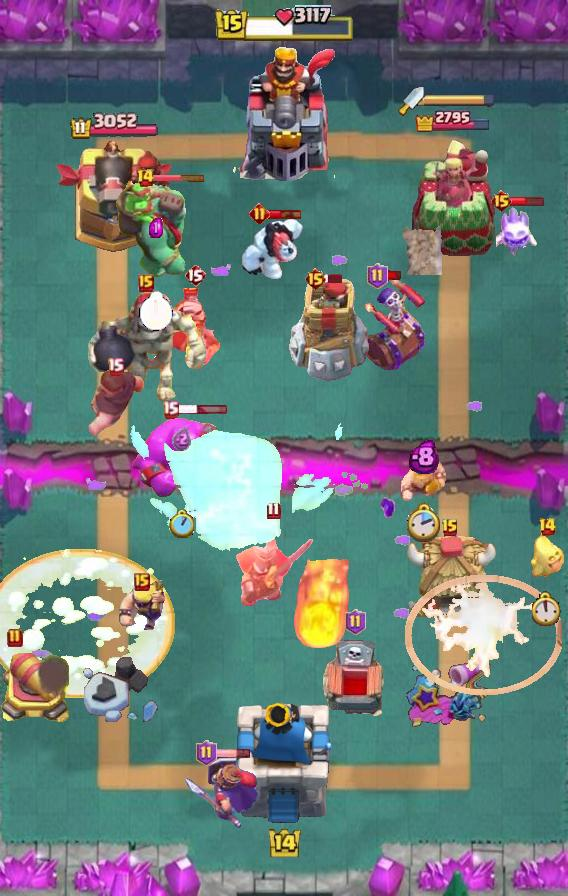archer: (401, 460, 447, 502)
arrows: (116, 580, 168, 630)
bar: (409, 138, 497, 256)
barbarian-evolution: (406, 574, 563, 696)
bat-evolution: (530, 534, 564, 578)
clock: (213, 5, 355, 45)
clone: (130, 415, 232, 499)
electro-giant: (84, 290, 208, 402)
electro-spirit: (409, 439, 439, 474), (173, 427, 192, 451), (149, 218, 163, 238)
elixir: (406, 502, 442, 544), (139, 291, 173, 331), (532, 590, 562, 625), (170, 510, 195, 538)
elixir-golem-big: (184, 753, 260, 829)
elixir-golem-mid: (320, 639, 390, 725)
emote: (176, 404, 228, 415), (152, 174, 206, 183), (267, 208, 303, 220), (510, 195, 545, 207), (214, 749, 251, 760), (324, 273, 344, 284), (385, 271, 403, 282)
fisherman: (403, 225, 443, 275)
king-tower: (230, 45, 338, 181), (235, 703, 333, 826)
king-tower-bar: (424, 93, 496, 107)
lava-hound: (114, 177, 198, 283)
mega-knight: (130, 409, 346, 555)
mirror: (496, 203, 540, 257)
phoenix-big: (1, 550, 176, 699)
prince: (403, 534, 497, 624)
rage: (238, 217, 304, 281)
royal-hog: (83, 367, 147, 439)
royal-recruit: (0, 653, 72, 727)
selected: (68, 112, 159, 140), (414, 108, 492, 132)
skeleton-king: (165, 288, 225, 374)
skeleton-king-bar: (356, 274, 426, 374)
text: (367, 263, 389, 289), (195, 740, 217, 766), (491, 189, 514, 213), (304, 267, 327, 291), (346, 609, 367, 635), (184, 263, 206, 287), (249, 203, 270, 224), (136, 168, 155, 188), (539, 517, 558, 537), (441, 518, 459, 538), (162, 400, 179, 419), (7, 628, 23, 648), (107, 357, 124, 375), (138, 274, 154, 292), (134, 573, 150, 591), (266, 500, 281, 519)
tower-bar: (53, 138, 175, 256)
valkyrie: (289, 559, 351, 651)
wall-breaker-evolution: (231, 516, 315, 608)
zappy: (287, 277, 369, 383)
